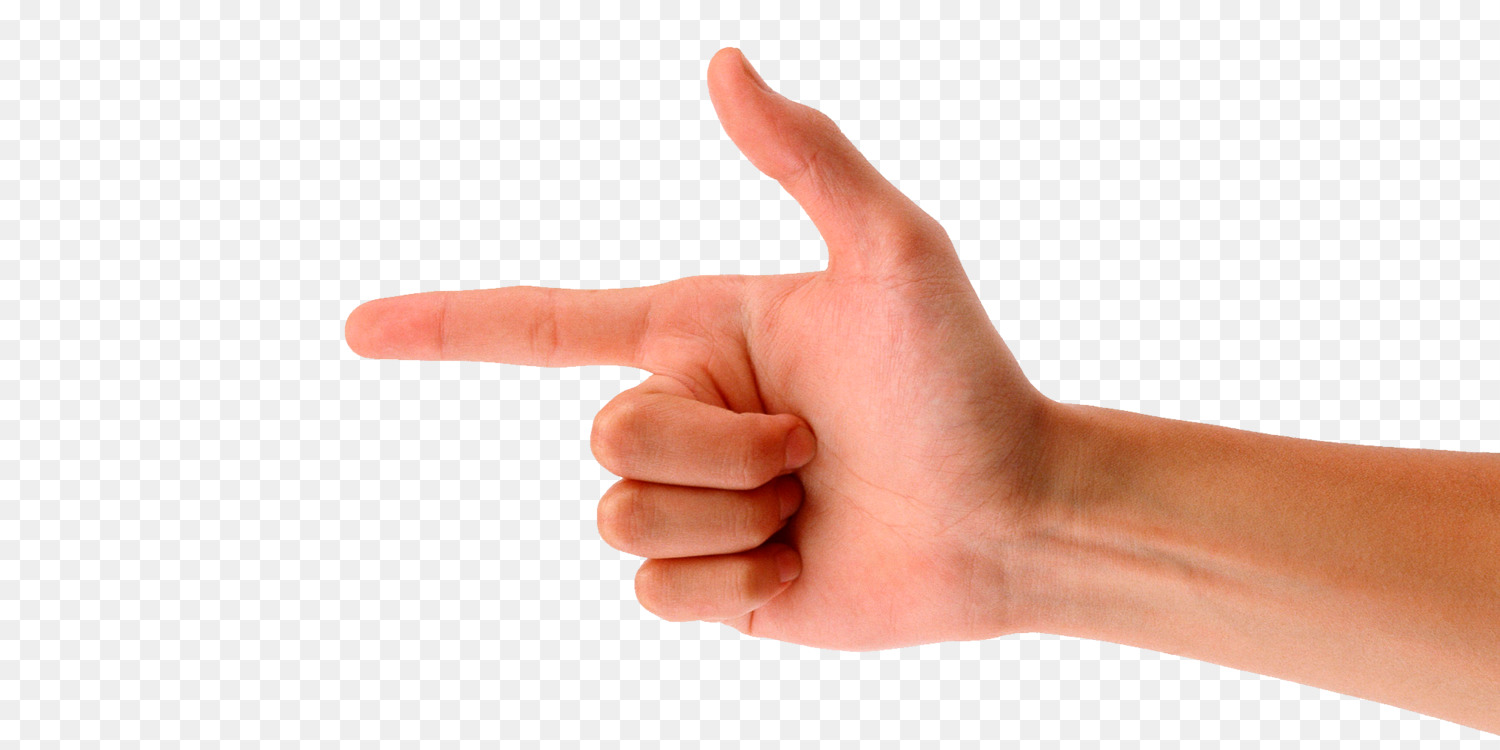move: (344, 55, 1053, 689)
